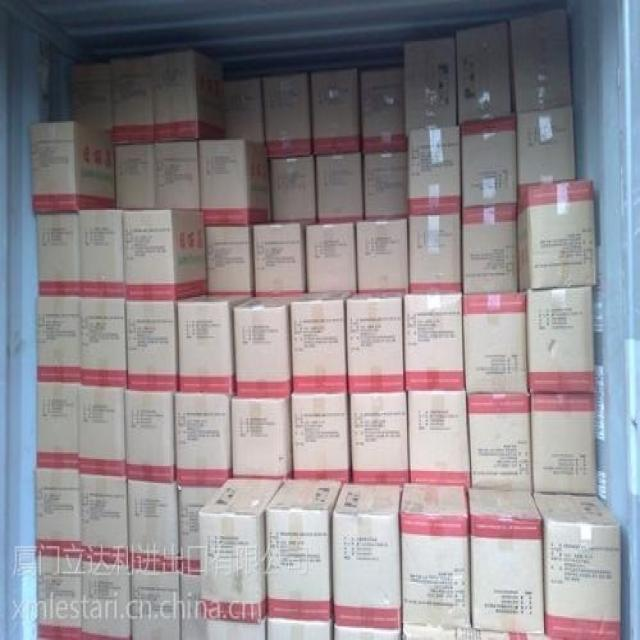box: (534, 493, 621, 640), (198, 480, 283, 623), (467, 488, 545, 635), (266, 478, 343, 621), (399, 481, 471, 630), (333, 483, 402, 630), (517, 177, 598, 290), (29, 121, 116, 213), (123, 208, 207, 300), (177, 294, 251, 394), (234, 295, 305, 398), (526, 287, 594, 394), (150, 51, 225, 142), (531, 394, 598, 495), (461, 292, 527, 394), (509, 7, 572, 113), (466, 394, 532, 493), (406, 391, 471, 488), (403, 292, 465, 393), (198, 140, 271, 225), (291, 294, 353, 393), (114, 140, 200, 210), (348, 391, 410, 485), (346, 294, 404, 393), (461, 111, 517, 213), (457, 19, 512, 121), (292, 393, 352, 483), (174, 393, 232, 486), (403, 36, 457, 131), (125, 299, 179, 393), (232, 398, 293, 481), (407, 123, 462, 215), (461, 210, 520, 294), (124, 391, 177, 483), (125, 478, 179, 568), (517, 104, 576, 186), (79, 297, 128, 389), (311, 68, 362, 154), (262, 72, 312, 159), (408, 215, 462, 294), (355, 218, 410, 295), (78, 207, 125, 297), (78, 386, 125, 476), (36, 550, 82, 640), (253, 222, 308, 297), (82, 556, 131, 640), (79, 476, 128, 558), (361, 68, 408, 152), (35, 469, 82, 551), (111, 56, 155, 143), (35, 297, 79, 384), (305, 222, 358, 294), (177, 485, 220, 573), (35, 213, 81, 295), (131, 565, 180, 640), (315, 150, 364, 224), (36, 384, 78, 469), (206, 225, 255, 297), (270, 155, 317, 224), (70, 63, 113, 133), (364, 150, 408, 218), (224, 79, 265, 145), (403, 626, 553, 640), (179, 573, 206, 640), (268, 618, 333, 640), (206, 618, 266, 640), (334, 625, 401, 640)
